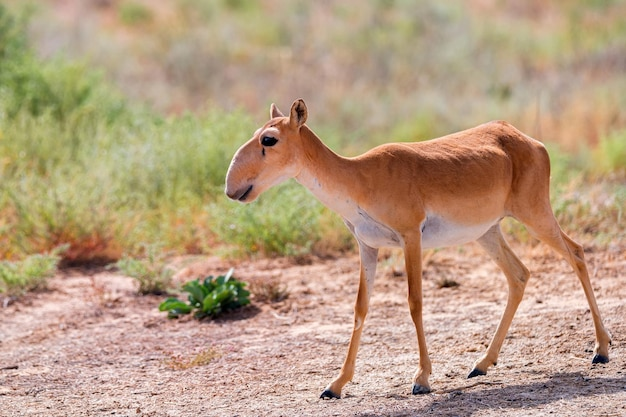saiga: (224, 99, 618, 398)
